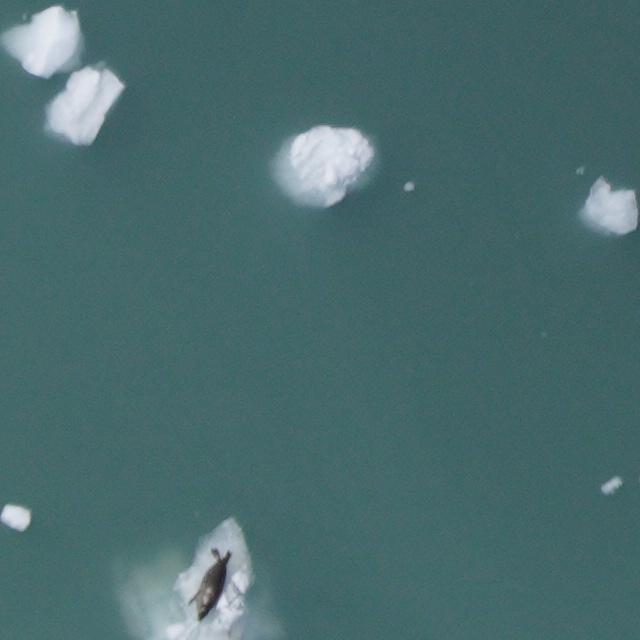seal: (180, 542, 239, 627)
